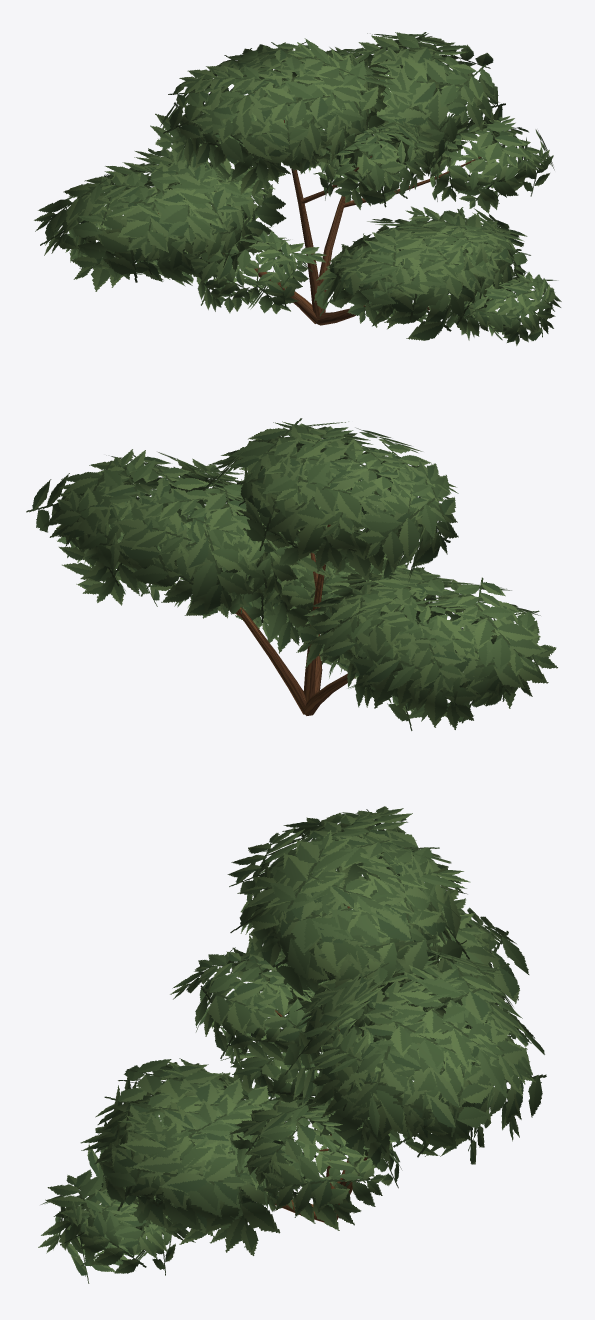
The model's file is hazel_round.glb.
3 views of the same model, one above another, from view 1: azimuth 30°, elevation 25°; view 2: azimuth 150°, elevation 25°; view 3: azimuth 270°, elevation 25° (orthographic). The views are drawn at different scales.
Parts seen in each view (by area): view 1: hazel_round; view 2: hazel_round; view 3: hazel_round.
Boxes of the visible parts, box(x1,y1,x2,y2) form: hazel_round: box(34, 32, 561, 345); hazel_round: box(26, 418, 557, 730); hazel_round: box(38, 806, 546, 1283).
Size of the model in its own units: 2.2 by 1.21 by 1.6.
Materials: 2 (2 with a texture image).
